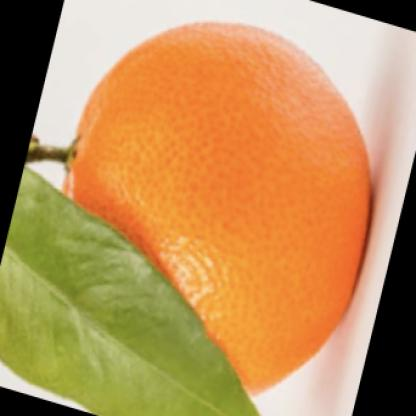fresh: (53, 22, 372, 395)
